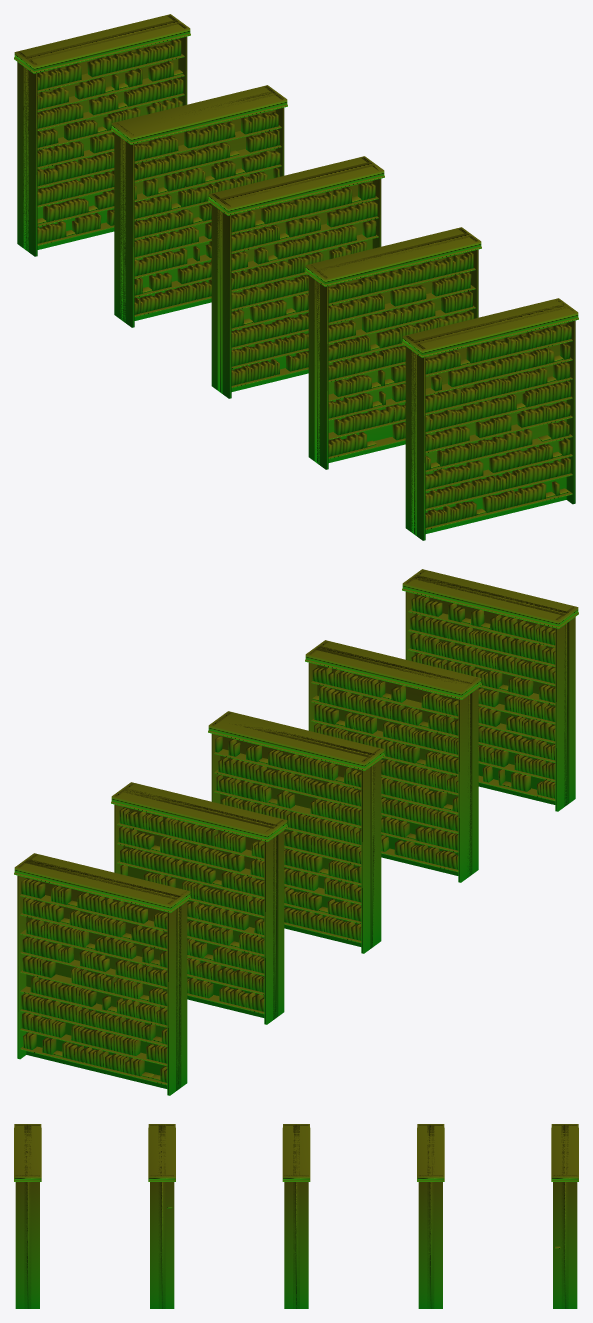
Rendered from ansedra_archive_stacks_e.glb.
3 views of the same model, one above another, from view 1: azimuth 30°, elevation 25°; view 2: azimuth 150°, elevation 25°; view 3: azimuth 270°, elevation 25° (orthographic). The views are drawn at different scales.
Visible parts, largest first — view 1: ansedra_archive_stacks_e; view 2: ansedra_archive_stacks_e; view 3: ansedra_archive_stacks_e.
Part boxes in pixels (x1,y1,x2,y2): ansedra_archive_stacks_e: (14,14,578,540); ansedra_archive_stacks_e: (14,569,578,1095); ansedra_archive_stacks_e: (14,1124,578,1308).
Size of what is drawn, in the model's own units: 5.15 by 5.99 by 23.14.
